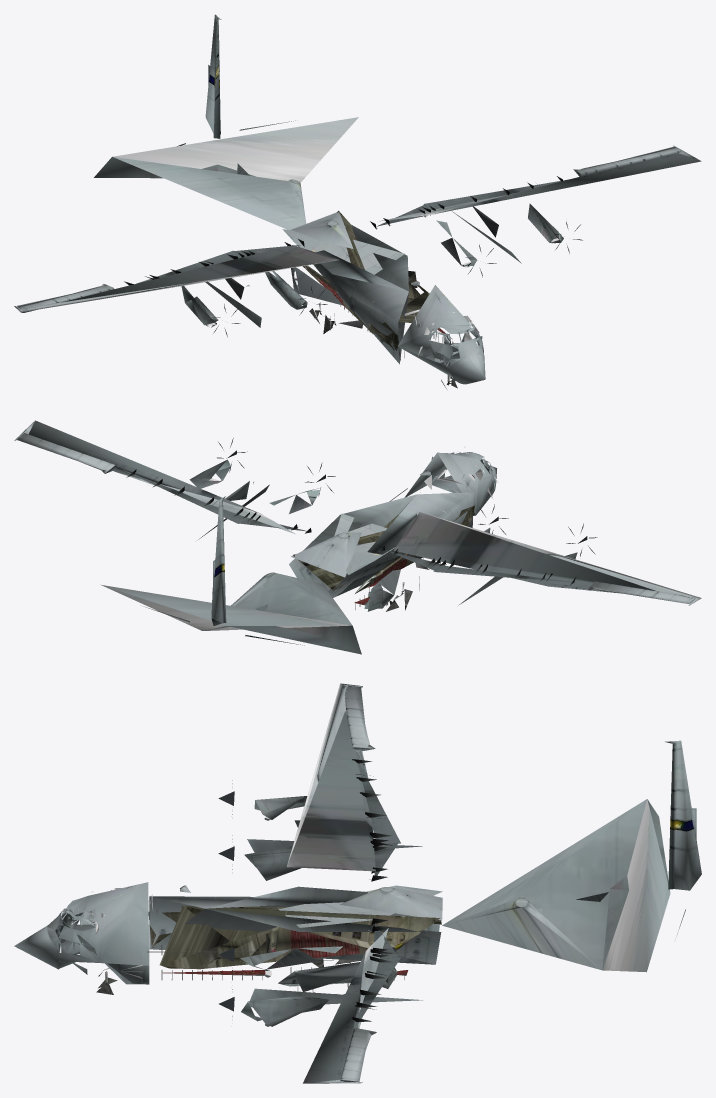
3 views of the same model, one above another, from view 1: azimuth 30°, elevation 25°; view 2: azimuth 150°, elevation 25°; view 3: azimuth 270°, elevation 25° (orthographic). The views are drawn at different scales.
Visible parts, largest first — view 1: LOD1; view 2: LOD1; view 3: LOD1.
Boxes of the visible parts, left/top/right/bottom form: LOD1: left=14, top=14, right=701, bottom=388; LOD1: left=14, top=420, right=701, bottom=654; LOD1: left=14, top=683, right=701, bottom=1083.
Size of the model in its own units: 40.33 by 11.89 by 29.31.
Materials: 14 (14 with a texture image).
